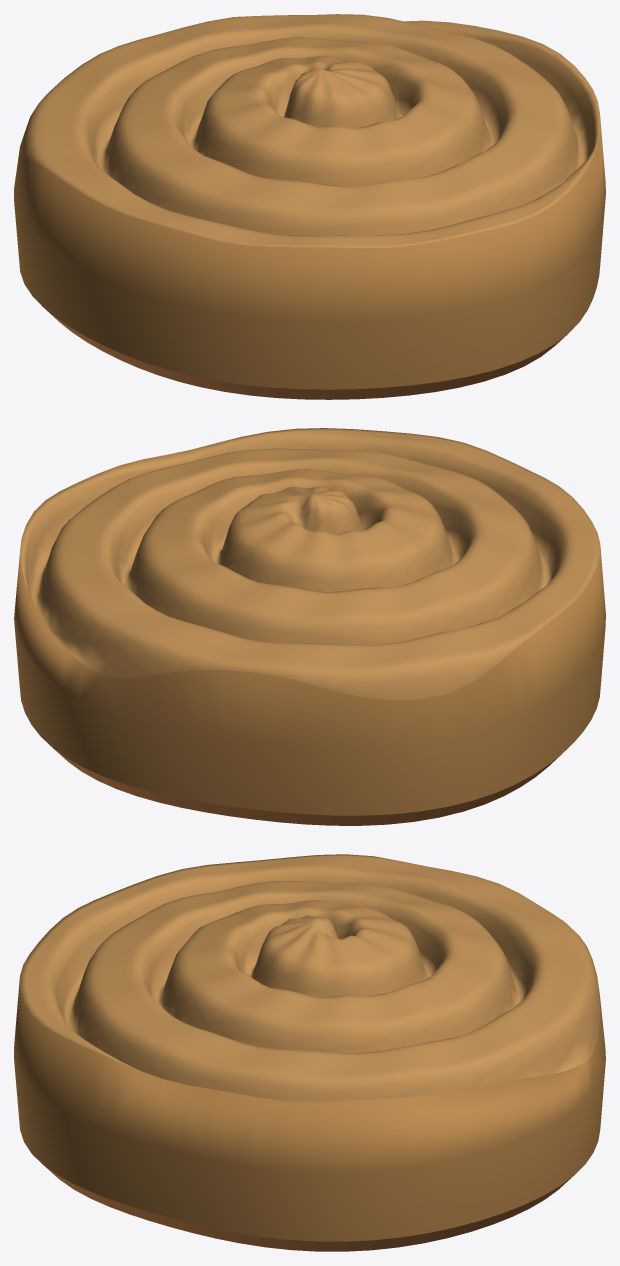
The picture shows the model from 3 angles, top to bottom: view 1: azimuth 30°, elevation 25°; view 2: azimuth 150°, elevation 25°; view 3: azimuth 270°, elevation 25°; orthographic projection.
Visible parts, largest first — view 1: NEW328_CinnamonRoll_LOD2; view 2: NEW328_CinnamonRoll_LOD2; view 3: NEW328_CinnamonRoll_LOD2.
Boxes of the visible parts, <box> form: NEW328_CinnamonRoll_LOD2: <box>14,14,605,399</box>; NEW328_CinnamonRoll_LOD2: <box>14,428,605,825</box>; NEW328_CinnamonRoll_LOD2: <box>14,854,605,1251</box>.
Size of the model in its own units: 0.092 by 0.037 by 0.0919.
